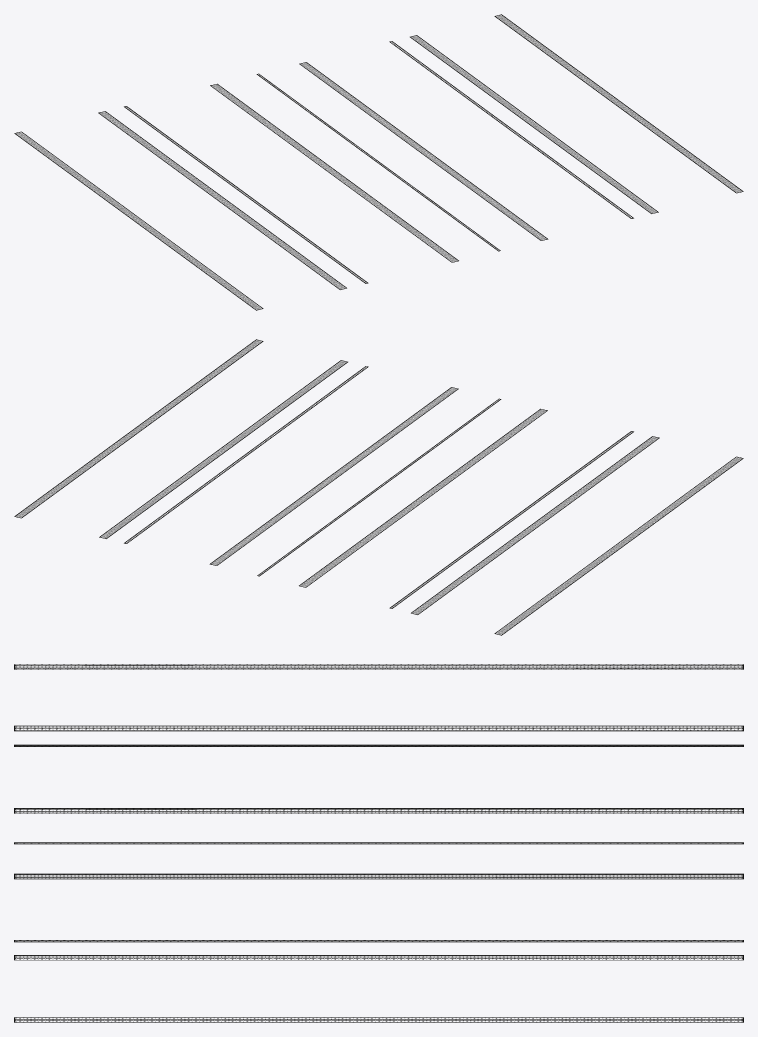
The picture shows the model from 3 angles, top to bottom: view 1: azimuth 30°, elevation 25°; view 2: azimuth 150°, elevation 25°; view 3: azimuth 270°, elevation 25°; orthographic projection. The views are drawn at different scales.
Visible parts, largest first — view 1: CR02_Mesh; view 2: CR02_Mesh; view 3: CR02_Mesh.
Part boxes in pixels (<box>): CR02_Mesh: <box>14,14,743,310</box>; CR02_Mesh: <box>14,339,743,635</box>; CR02_Mesh: <box>14,664,743,1022</box>.
Size of the model in its own units: 11651 by 0.000438 by 10021.
